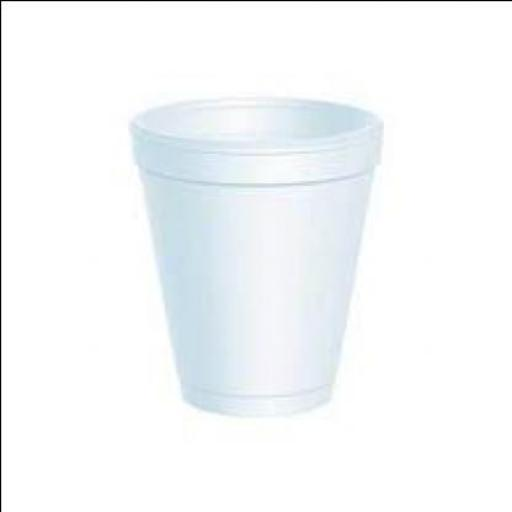paper: (127, 95, 380, 408)
